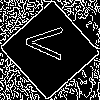V: (25, 25, 72, 61)
